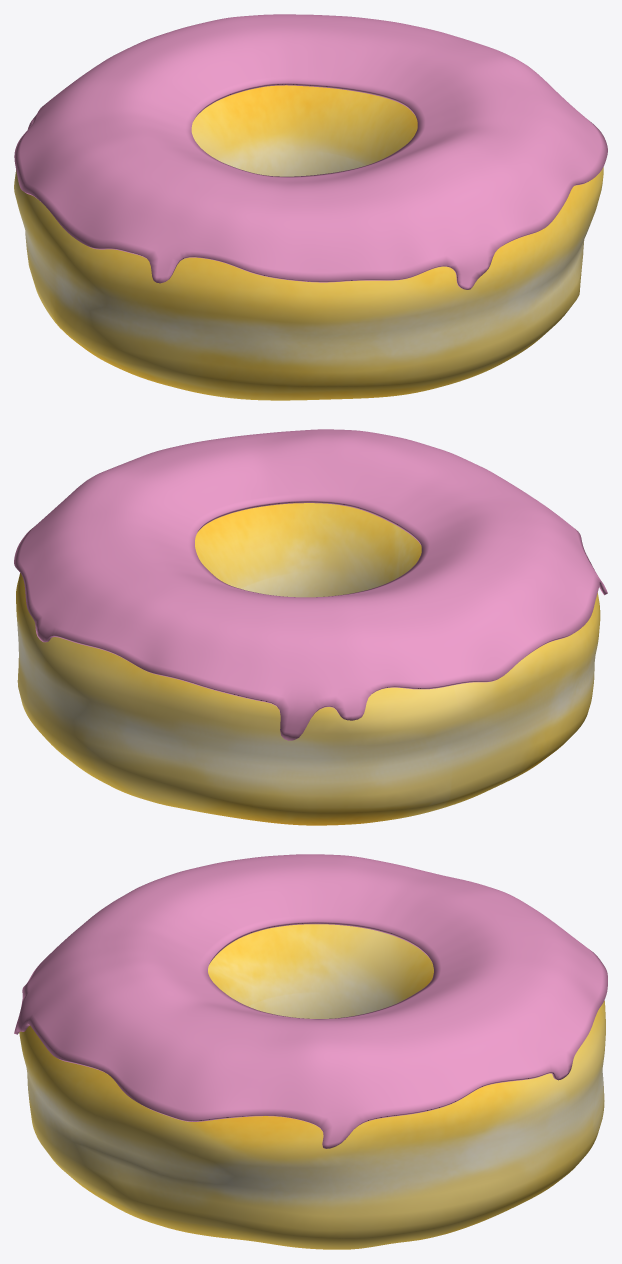
File: donut.gltf
3 renders of one model, top to bottom at view 1: azimuth 30°, elevation 25°; view 2: azimuth 150°, elevation 25°; view 3: azimuth 270°, elevation 25°, orthographic.
Parts seen in each view (by area): view 1: icing.002, donut.002; view 2: icing.002, donut.002; view 3: icing.002, donut.002.
Boxes of the visible parts, x1,y1,x2,y2 form: icing.002: [14, 14, 607, 289]; donut.002: [14, 85, 603, 400]; icing.002: [14, 429, 607, 740]; donut.002: [16, 503, 600, 825]; icing.002: [14, 854, 607, 1148]; donut.002: [19, 924, 605, 1249].
Bounding box in the file's own units: 0.307 × 0.124 × 0.3039.
2 materials, 1 textured.
